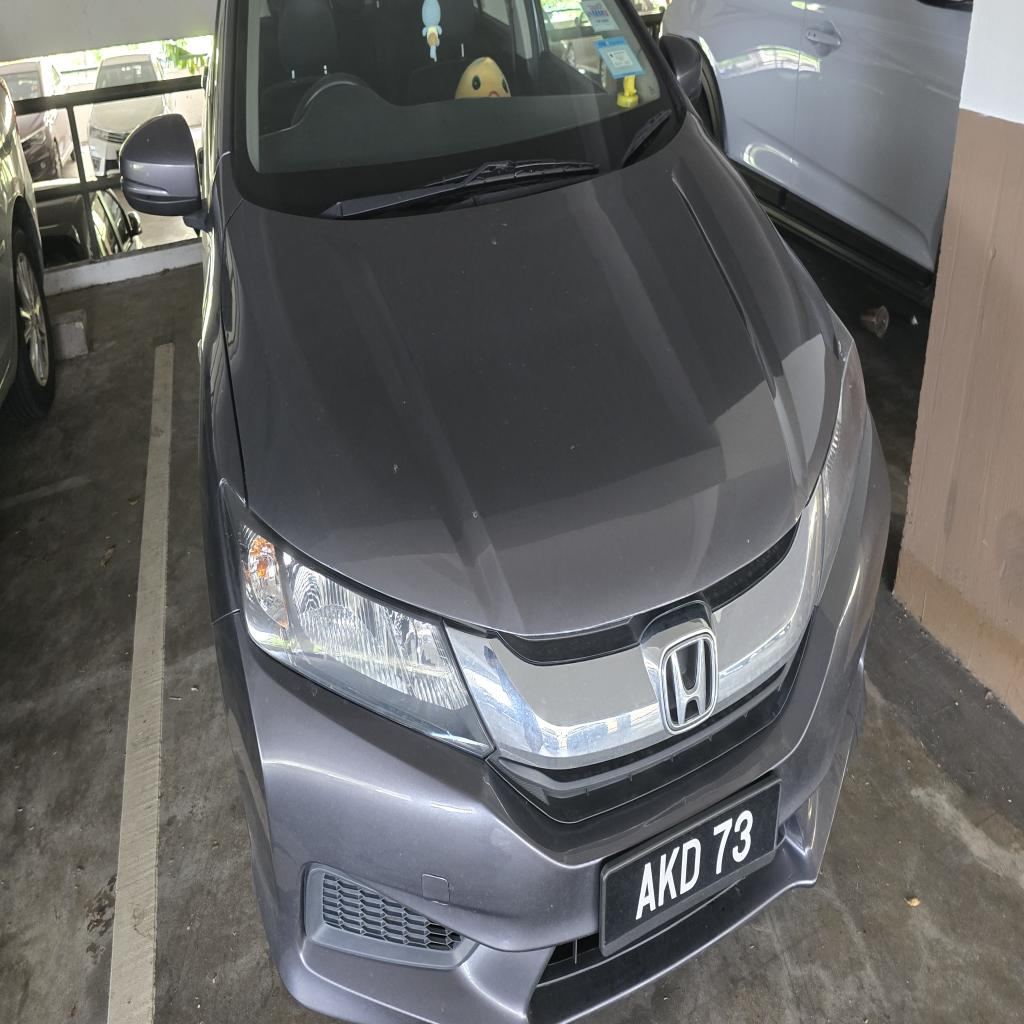car: (121, 0, 889, 1023)
car plate: (600, 780, 780, 956)
